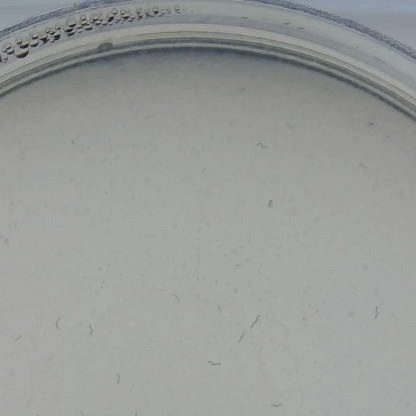worm: (201, 349, 225, 368), (261, 191, 280, 214), (355, 157, 377, 176), (264, 395, 286, 411), (52, 310, 65, 337), (166, 290, 188, 305), (229, 332, 252, 346), (369, 300, 381, 326), (9, 330, 27, 346), (248, 311, 263, 330), (253, 139, 274, 152), (109, 370, 123, 387), (84, 317, 95, 338), (71, 407, 96, 416), (216, 304, 229, 321)
